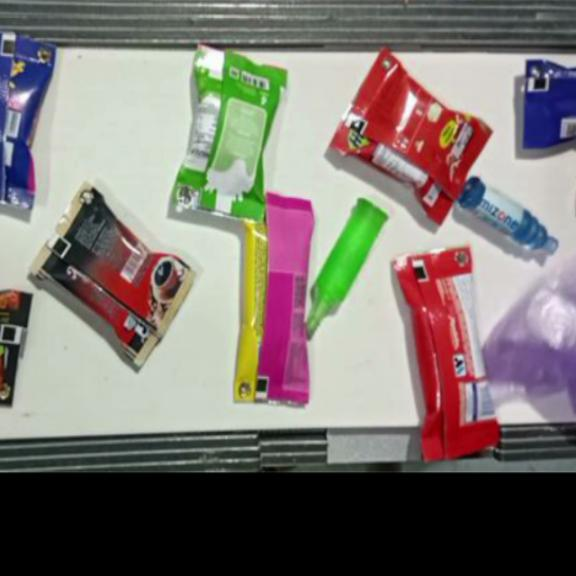Plastik: (31, 182, 196, 367), (331, 46, 493, 225), (392, 246, 499, 464), (175, 44, 288, 223), (232, 191, 314, 405), (482, 251, 576, 419), (306, 197, 389, 342), (0, 33, 56, 210), (459, 177, 560, 256), (523, 58, 576, 152), (0, 283, 34, 408)
